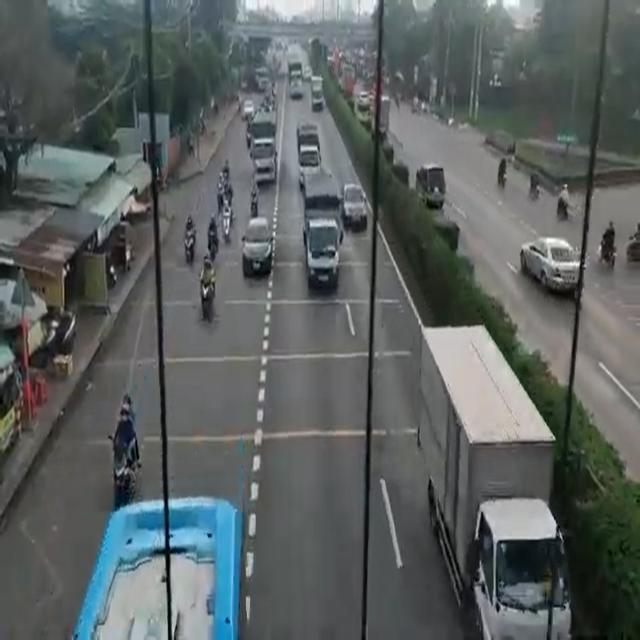car: (520, 232, 586, 294), (242, 214, 272, 278), (416, 164, 447, 206), (342, 177, 364, 226)
motor: (112, 402, 140, 502), (202, 256, 214, 326), (183, 208, 194, 269), (207, 208, 214, 256)
truck: (429, 326, 568, 640), (307, 175, 339, 290), (250, 113, 274, 178), (302, 125, 318, 170)
